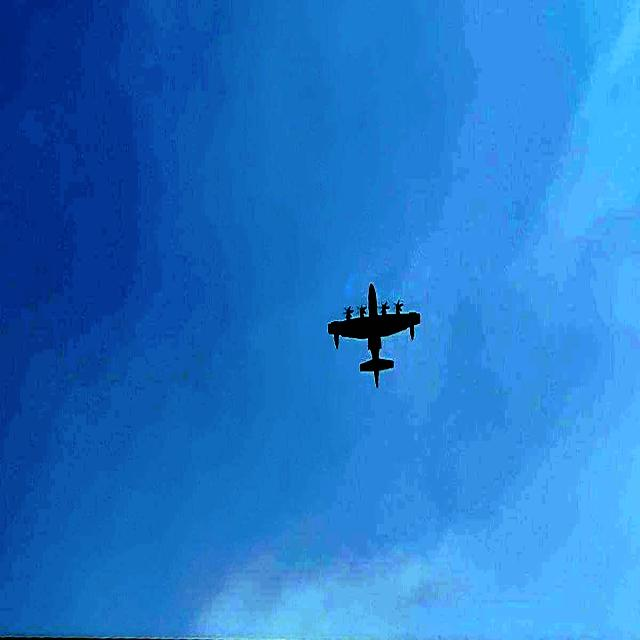Aircraft: (327, 280, 421, 389)
